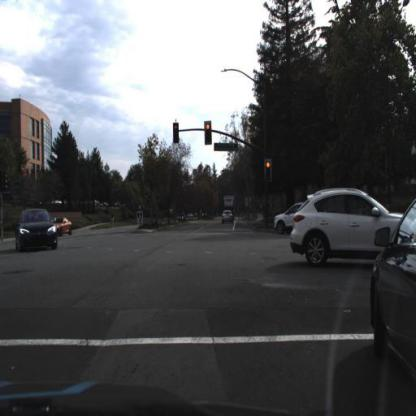biker: (106, 210, 118, 232)
car: (293, 188, 416, 269), (371, 195, 416, 394), (17, 210, 58, 251), (276, 200, 305, 236), (51, 219, 74, 239), (220, 211, 235, 228)
trafficLight-Red: (264, 158, 274, 187), (203, 120, 213, 147)
trafficLight-RedLeft: (173, 122, 181, 147)
truck: (223, 192, 237, 215), (223, 194, 236, 210)
